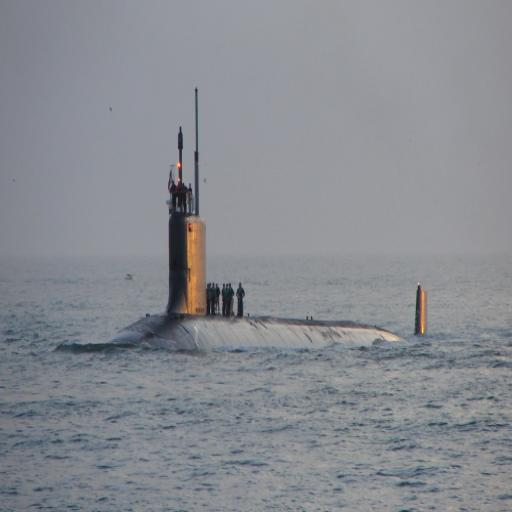submarine: (78, 85, 459, 359)
